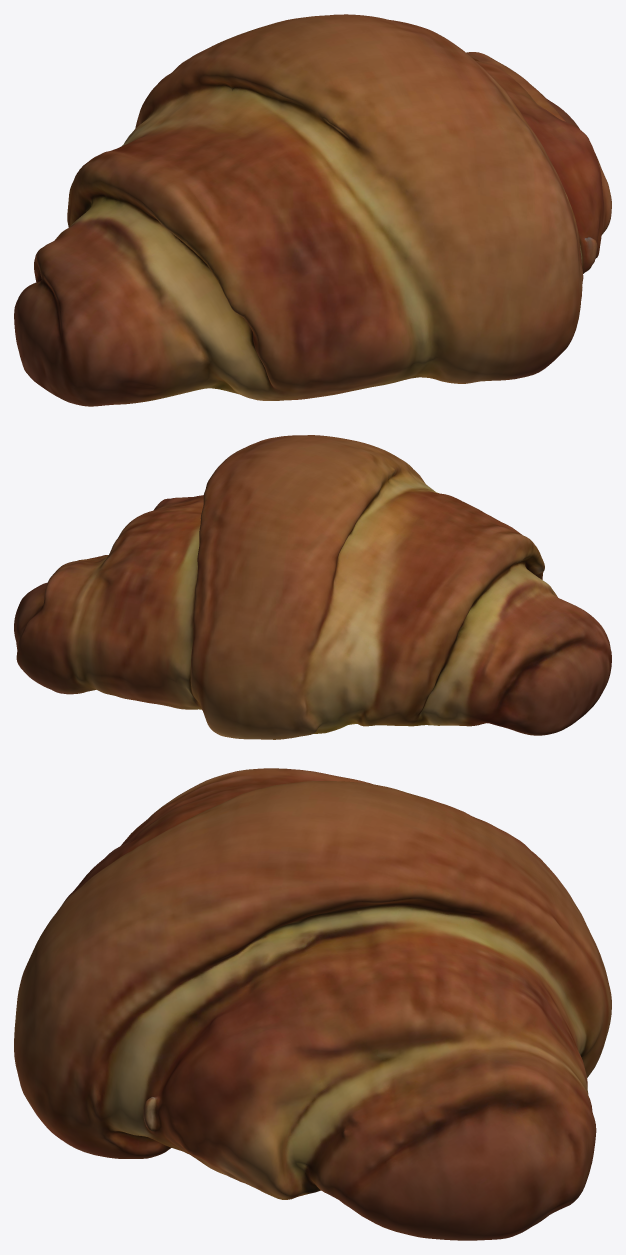
The model's file is crossaint.glb.
3 views of the same model, one above another, from view 1: azimuth 30°, elevation 25°; view 2: azimuth 150°, elevation 25°; view 3: azimuth 270°, elevation 25° (orthographic). The views are drawn at different scales.
Visible parts, largest first — view 1: world_0; view 2: world_0; view 3: world_0.
Part boxes in pixels (x1,y1,x2,y2): world_0: (14, 14, 611, 406); world_0: (14, 435, 611, 739); world_0: (14, 768, 611, 1240).
Bounding box in the file's own units: 0.5495 × 0.2312 × 0.4086.
Materials: 1 (1 with a texture image).
